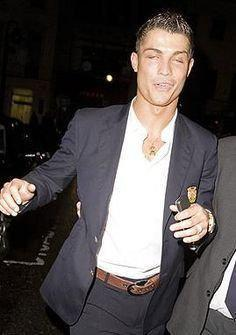Drunk: (142, 29, 185, 105)
